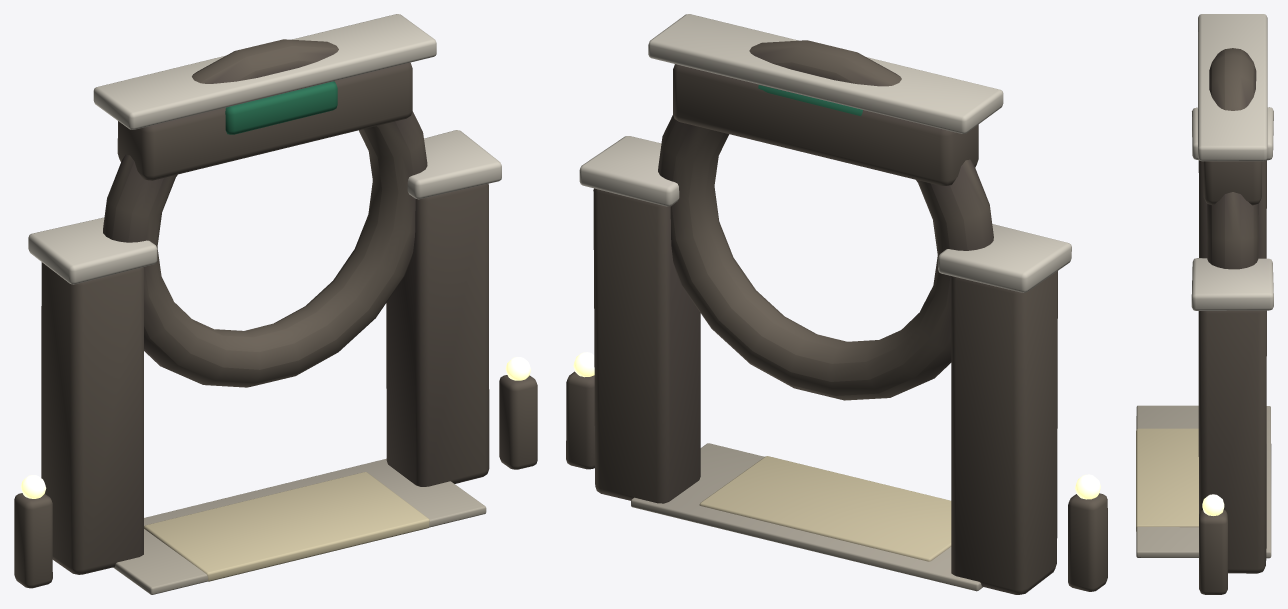
3 renders of one model, left to right at view 1: azimuth 30°, elevation 25°; view 2: azimuth 150°, elevation 25°; view 3: azimuth 270°, elevation 25°, orthographic. The views are drawn at different scales.
Visible parts, largest first — view 1: gate_9375a60a; view 2: gate_9375a60a; view 3: gate_9375a60a.
Part boxes in pixels (x1,y1,x2,y2): gate_9375a60a: (14,14,537,594); gate_9375a60a: (566,14,1107,594); gate_9375a60a: (1136,14,1273,594).
Size of the model in its own units: 5.5 by 4.81 by 1.43.
